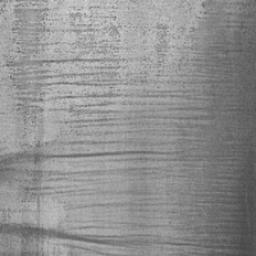Waist folding: (0, 0, 201, 213), (0, 208, 152, 256), (173, 108, 198, 136), (160, 239, 200, 256), (179, 0, 207, 19)
